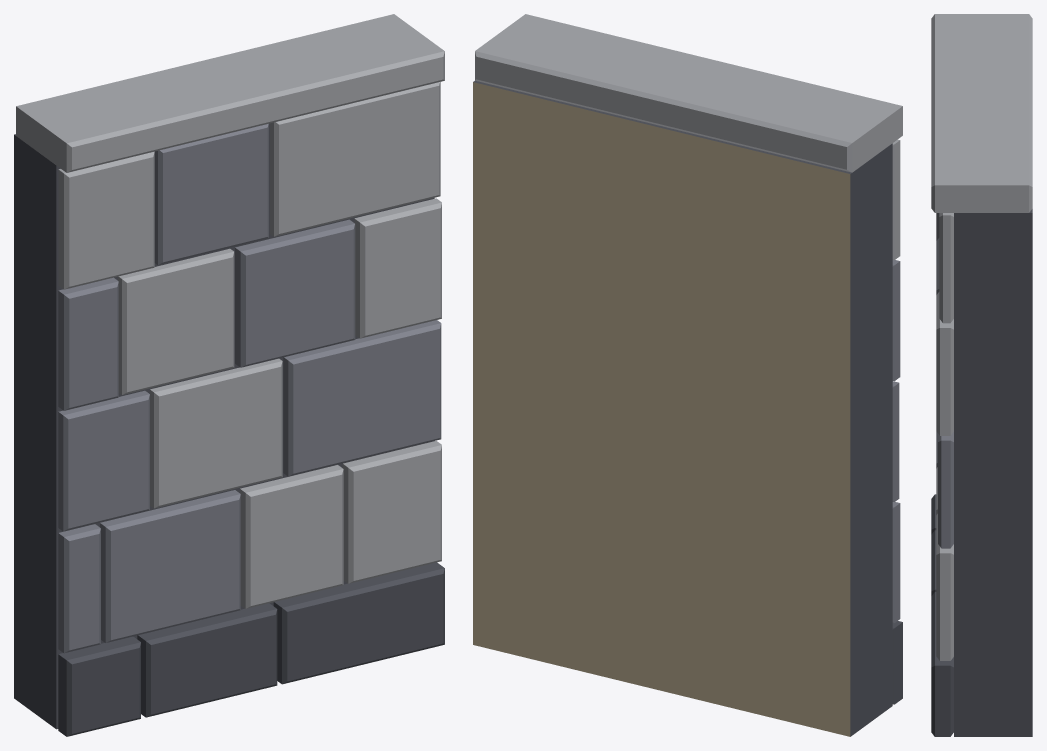
The model's file is WallStraight_06.glb.
3 renders of one model, left to right at view 1: azimuth 30°, elevation 25°; view 2: azimuth 150°, elevation 25°; view 3: azimuth 270°, elevation 25°, orthographic. The views are drawn at different scales.
Parts seen in each view (by area): view 1: WallStraight_06; view 2: WallStraight_06; view 3: WallStraight_06.
Boxes of the visible parts, left/top/right/bottom form: WallStraight_06: left=14, top=14, right=444, bottom=736; WallStraight_06: left=473, top=14, right=902, bottom=736; WallStraight_06: left=931, top=14, right=1032, bottom=736.
Size of the model in its own units: 8 by 12 by 2.
